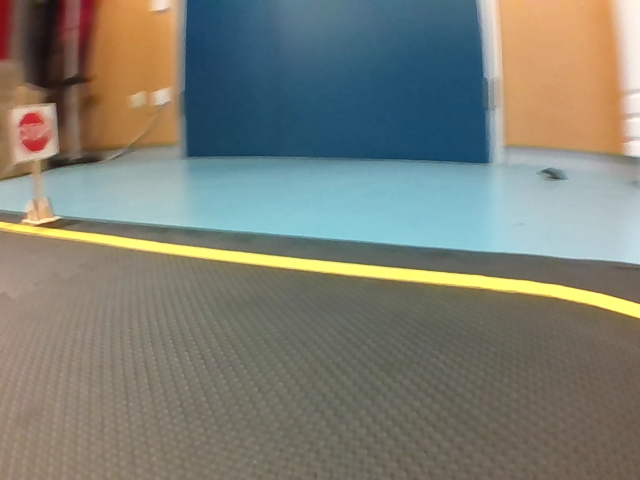stop: (10, 108, 58, 158)
